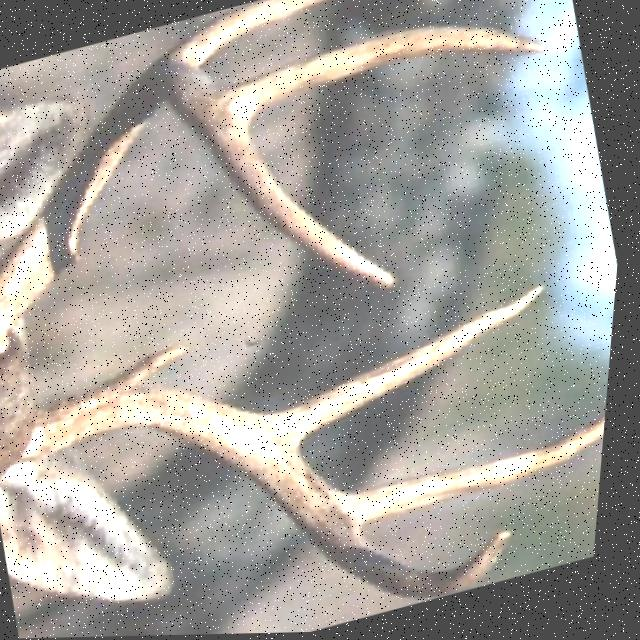L-F: (0, 53, 401, 352)
R-F: (31, 389, 518, 599)
R-G1: (90, 345, 192, 403)
R-G2: (269, 283, 551, 447)
R-G3: (349, 415, 613, 526)
